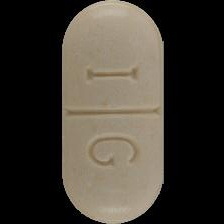53808-1053: (0, 0, 224, 224)
